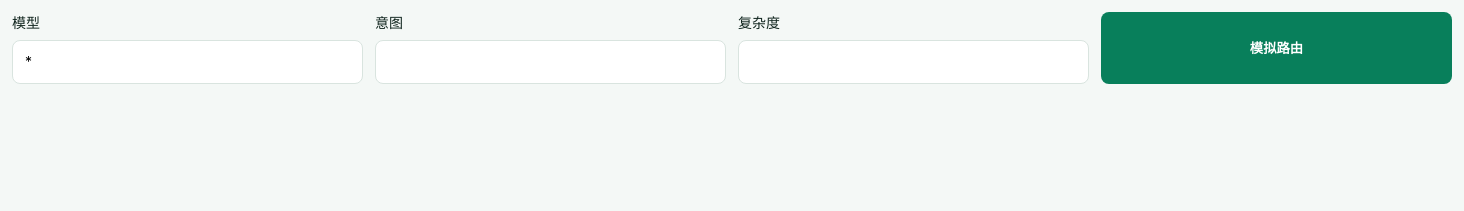
Test: renders an ordered trace and selected model from a simulation
Type "coding_review" into the field named "intent".
click(550, 62); type("coding_review")  # box x1=375 y1=40 x2=726 y2=84
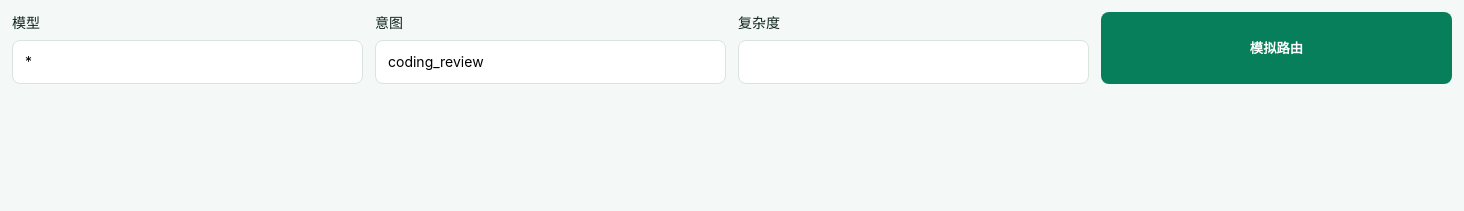
Click the button "模拟路由".
click(1276, 48)  # box x1=1101 y1=12 x2=1452 y2=84
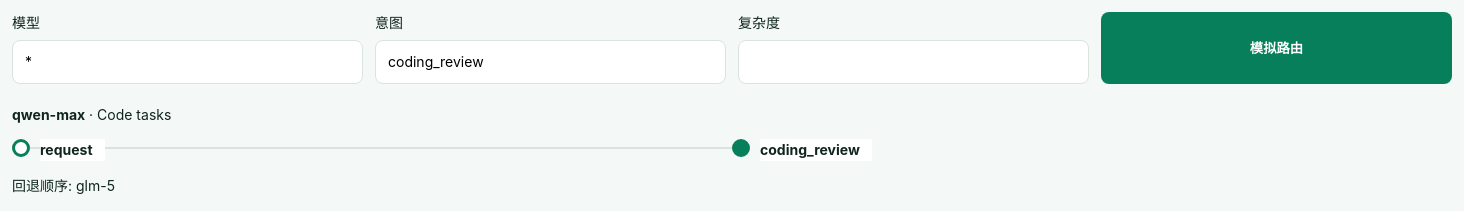
Expected: the text "qwen-max" is shown, x1=12 y1=106 x2=85 y2=123
Expected: the list shows "coding_review", x1=760 y1=141 x2=860 y2=158
